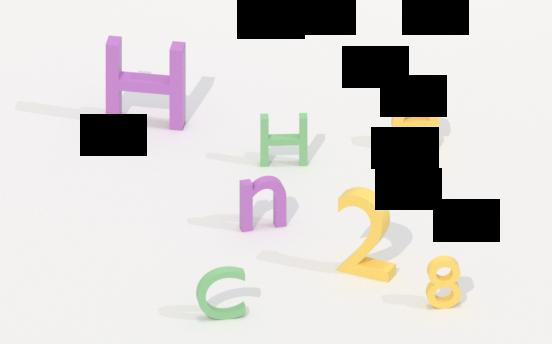2: (332, 187, 403, 283)
8: (422, 253, 467, 311)
H-hoa: (100, 34, 191, 133), (254, 109, 313, 171)
c: (192, 265, 258, 321)
e: (389, 95, 445, 152)
n: (234, 176, 294, 233)
